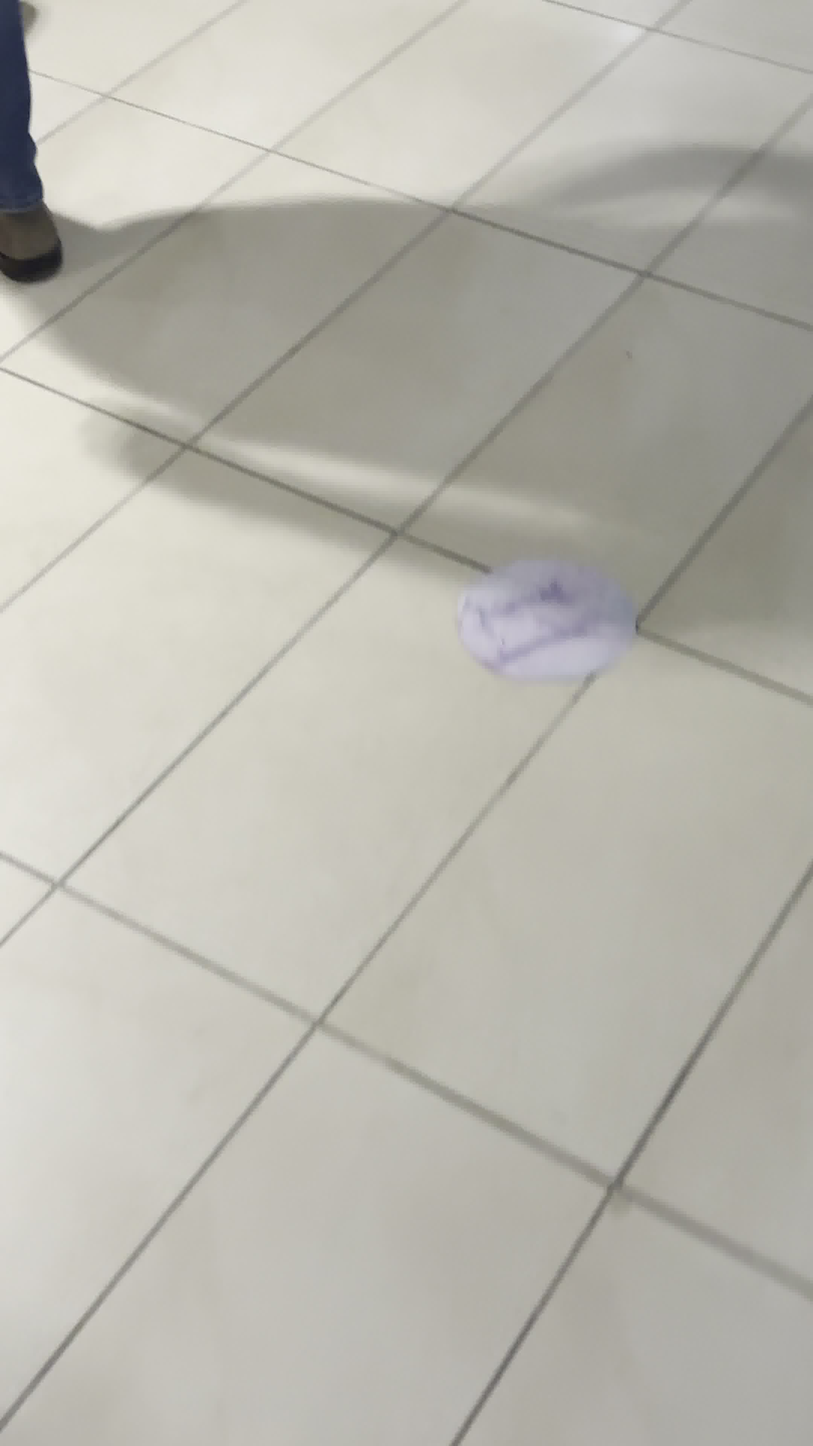Target: (454, 556, 629, 683)
